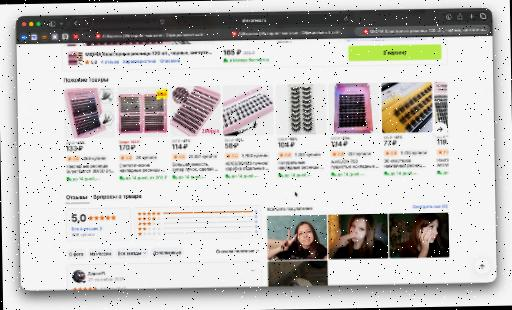aliexpress: (16, 36, 496, 291)
